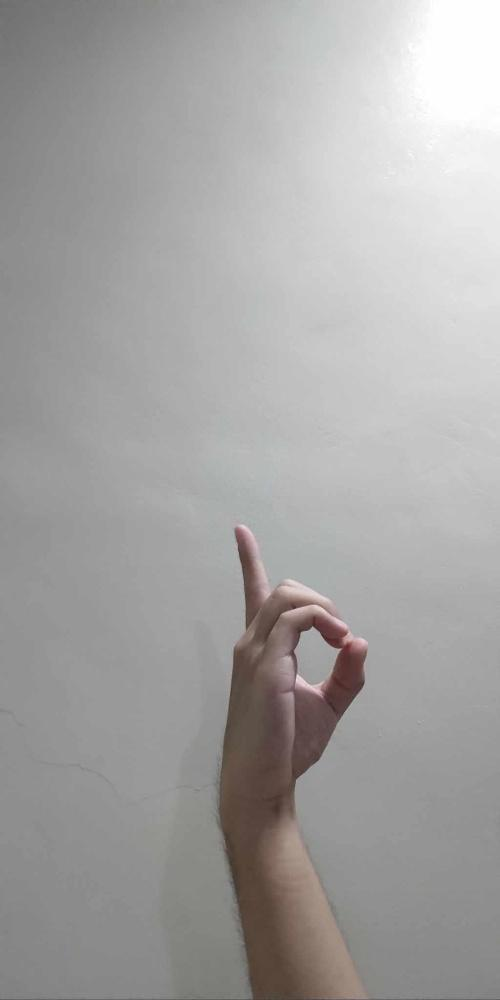d: (217, 518, 370, 806)
